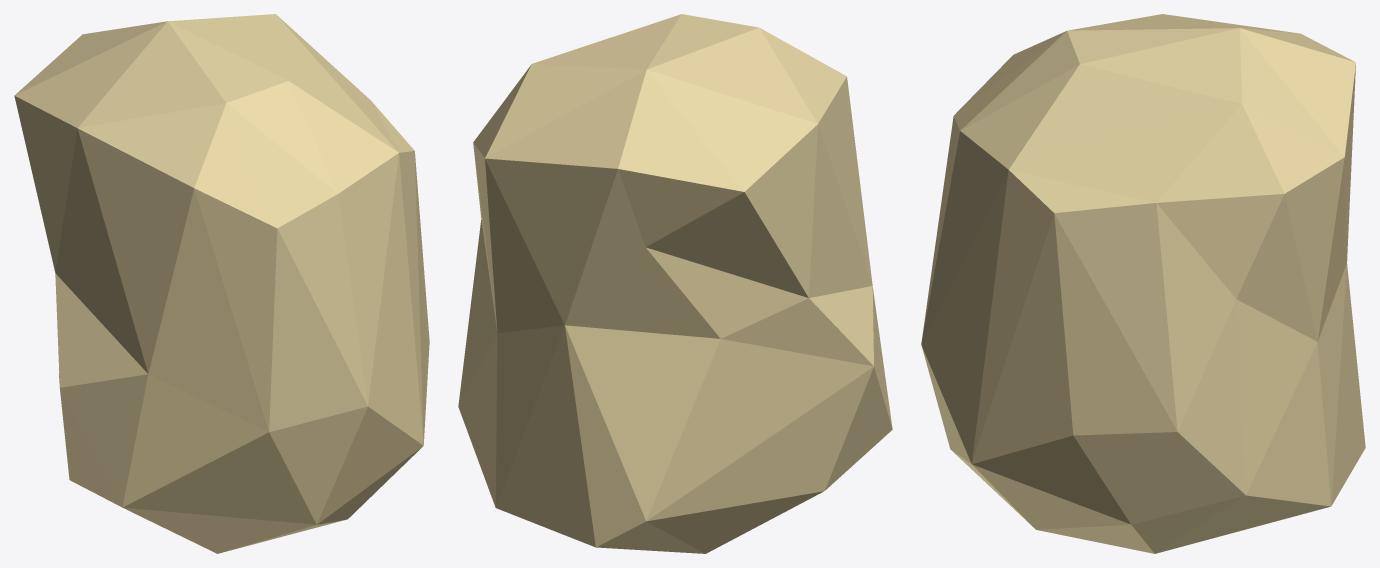
The model's file is Rock (84).fbx.
3 renders of one model, left to right at view 1: azimuth 30°, elevation 25°; view 2: azimuth 150°, elevation 25°; view 3: azimuth 270°, elevation 25°, orthographic. The views are drawn at different scales.
Visible parts, largest first — view 1: Asteroid83; view 2: Asteroid83; view 3: Asteroid83.
Boxes of the visible parts, <box> form: Asteroid83: <box>14,14,429,553</box>; Asteroid83: <box>458,14,892,553</box>; Asteroid83: <box>921,14,1365,553</box>.
Size of the model in its own units: 51.87 by 65.67 by 53.56.
